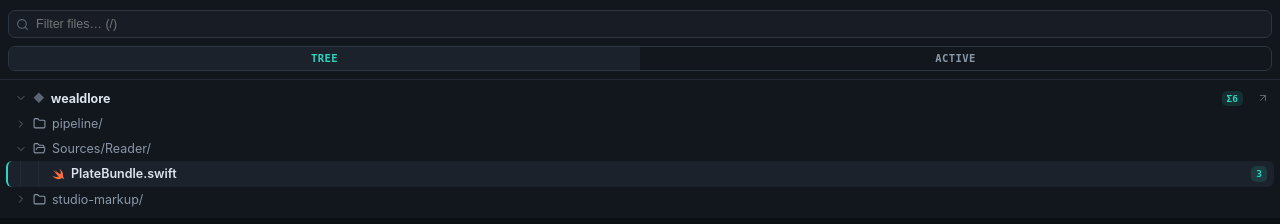
Test case: CodeTree — expand/collapse + selection › collapses/expands a repo node on click, toggling its children out of the DOM (lazy render)
Expected: the button "PlateBundle.swift 3" is shown, x1=6 y1=161 x2=1274 y2=186
Click the button "◆ wealdlore Σ6" at (81, 98), box x1=6 y1=86 x2=1250 y2=111
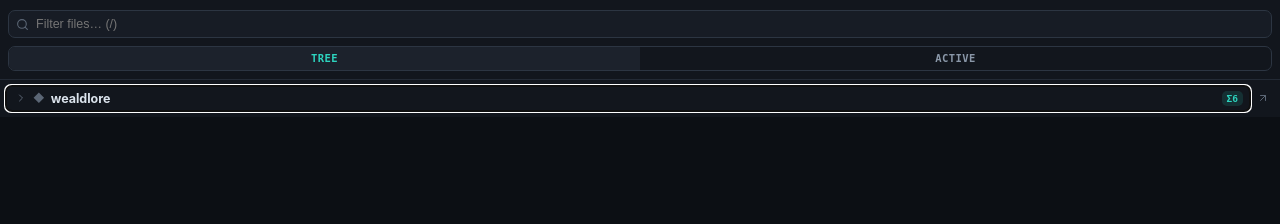
Expected: the button "PlateBundle.swift" is gone
Click the button "◆ wealdlore Σ6" at (81, 98), box x1=6 y1=86 x2=1250 y2=111
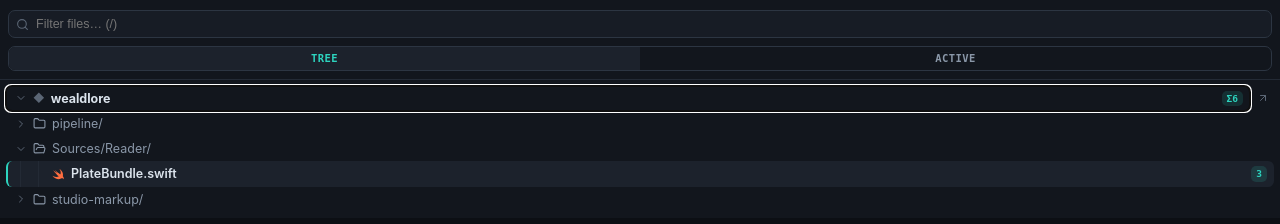
Expected: the button "PlateBundle.swift 3" is shown, x1=6 y1=161 x2=1274 y2=186
